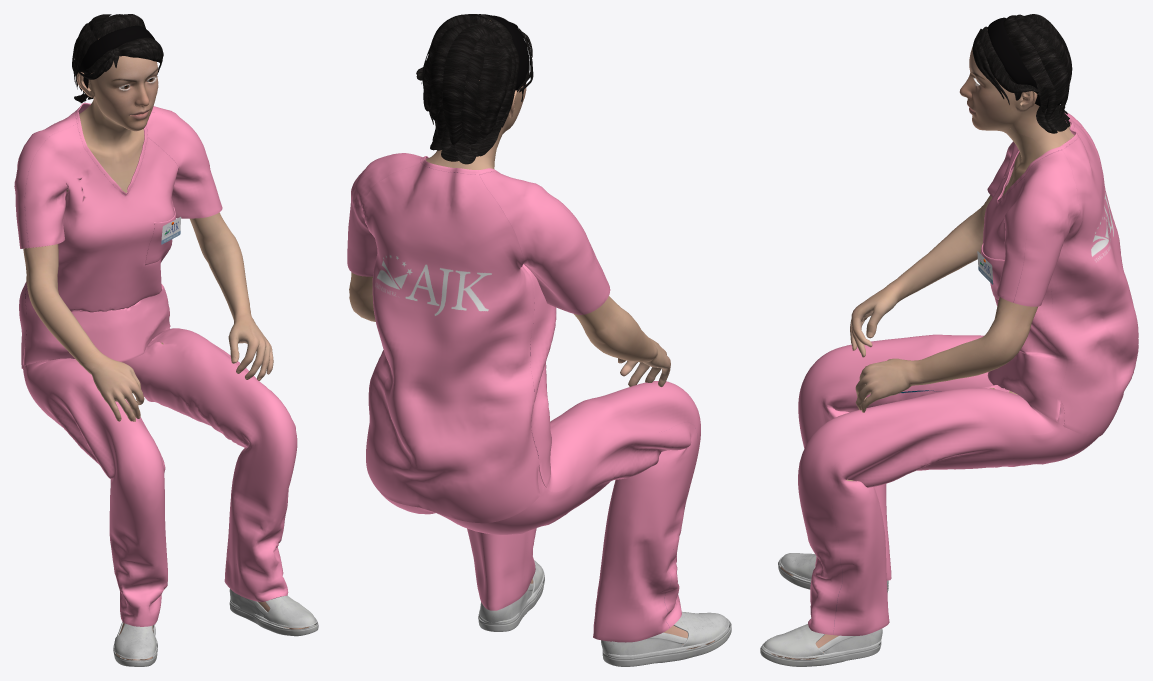
File: Sitting Nurse.glb
The picture shows the model from 3 angles, left to right: view 1: azimuth 30°, elevation 25°; view 2: azimuth 150°, elevation 25°; view 3: azimuth 270°, elevation 25°; orthographic projection. The views are drawn at different scales.
Visible parts, largest first — view 1: Shirt_default1_0.004, Shirt_default1_0.015, Shirt_default1_0.006, Shirt_default1_0.009, Shirt_default1_0.003, Shirt_default1_0.012, Shirt_default1_0.007; view 2: Shirt_default1_0.015, Shirt_default1_0.004, Shirt_default1_0.009, Shirt_default1_0.003, Shirt_default1_0.006, Shirt_default1_0.007; view 3: Shirt_default1_0.004, Shirt_default1_0.015, Shirt_default1_0.006, Shirt_default1_0.009, Shirt_default1_0.003, Shirt_default1_0.012, Shirt_default1_0.007.
Boxes of the visible parts, x1,y1,x2,y2 form: Shirt_default1_0.004: (23, 327, 297, 626); Shirt_default1_0.015: (14, 102, 222, 368); Shirt_default1_0.006: (23, 212, 273, 421); Shirt_default1_0.009: (72, 14, 163, 103); Shirt_default1_0.003: (113, 589, 318, 666); Shirt_default1_0.012: (76, 56, 158, 131); Shirt_default1_0.007: (66, 39, 144, 192); Shirt_default1_0.015: (347, 153, 610, 523); Shirt_default1_0.004: (380, 381, 700, 642); Shirt_default1_0.009: (416, 14, 533, 164); Shirt_default1_0.003: (478, 560, 731, 666); Shirt_default1_0.006: (349, 272, 670, 387); Shirt_default1_0.007: (426, 20, 504, 169); Shirt_default1_0.004: (798, 334, 1098, 635); Shirt_default1_0.015: (981, 113, 1138, 437); Shirt_default1_0.006: (850, 195, 1038, 412); Shirt_default1_0.009: (972, 14, 1072, 133); Shirt_default1_0.003: (760, 553, 888, 666); Shirt_default1_0.012: (959, 29, 1037, 131); Shirt_default1_0.007: (1002, 104, 1074, 394).
Bounding box in the file's own units: 0.7046 × 1.73 × 0.984.
Materials: 16 (14 with a texture image).
